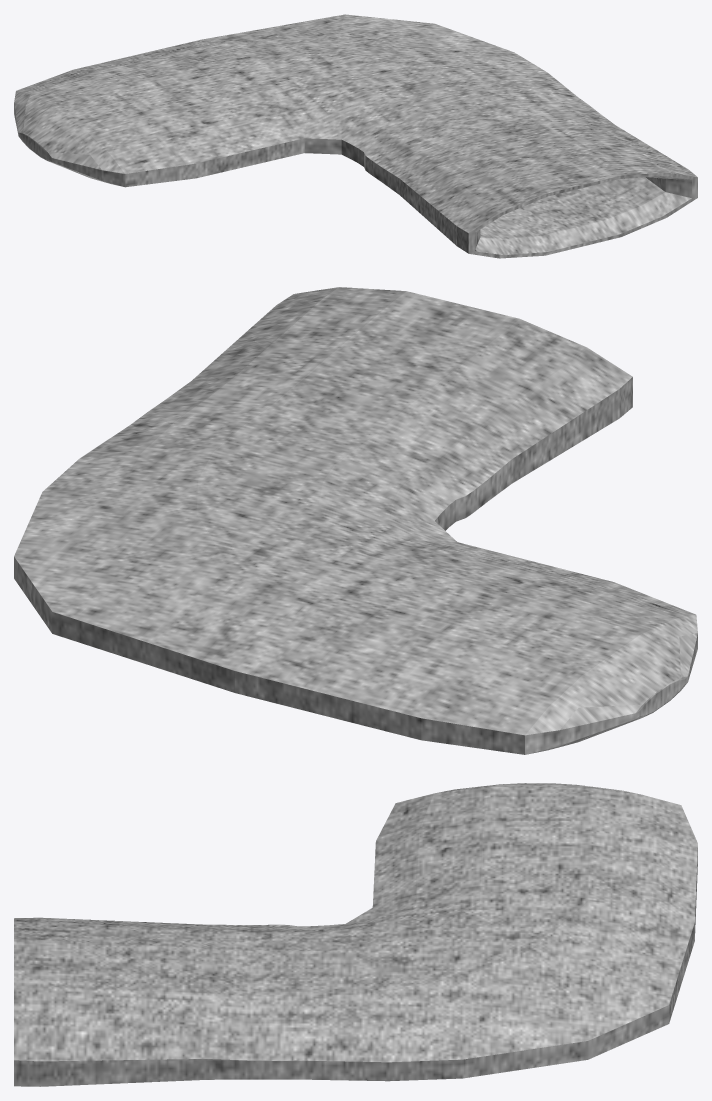
File: calcetin1.fbx
3 views of the same model, one above another, from view 1: azimuth 30°, elevation 25°; view 2: azimuth 150°, elevation 25°; view 3: azimuth 270°, elevation 25° (orthographic). The views are drawn at different scales.
Parts seen in each view (by area): view 1: sock:Mesh; view 2: sock:Mesh; view 3: sock:Mesh.
Boxes of the visible parts, left/top/right/bottom form: sock:Mesh: left=14, top=14, right=697, bottom=258; sock:Mesh: left=14, top=287, right=697, bottom=754; sock:Mesh: left=14, top=783, right=697, bottom=1086.
Bounding box in the file's own units: 6.42 × 0.8268 × 6.54.
Materials: 1 (1 with a texture image).
